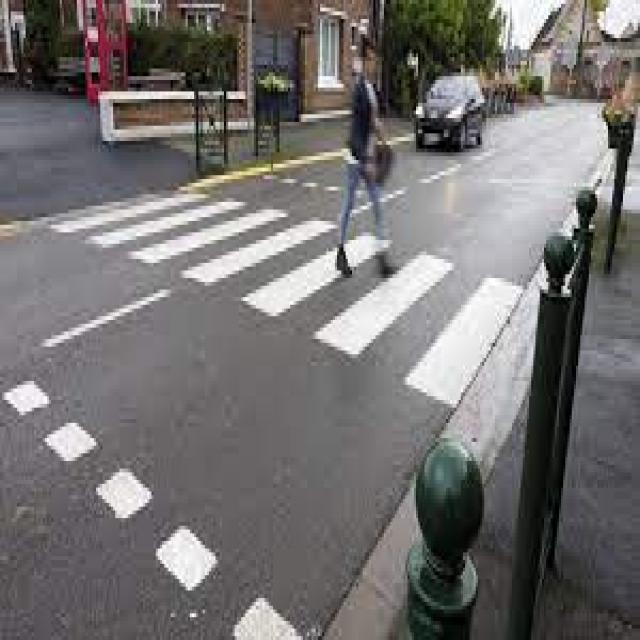crosswalk: (42, 190, 525, 409)
